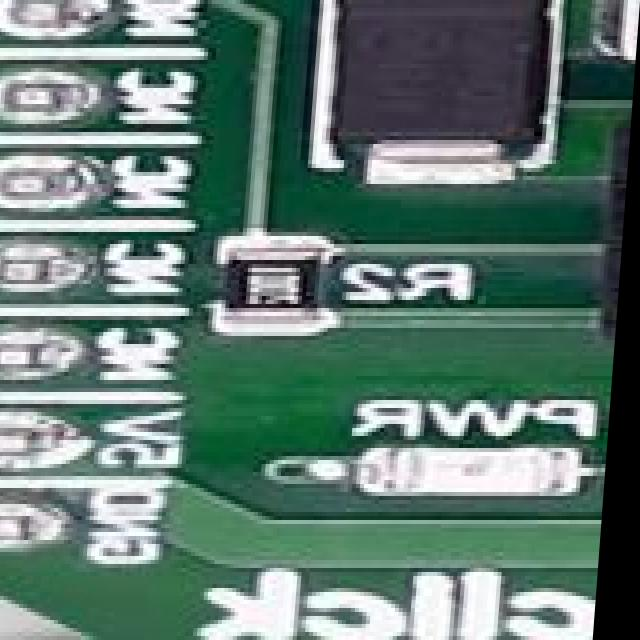IC: (615, 108, 634, 352)
LED: (361, 456, 593, 496)
capacitor: (604, 0, 640, 72)
diode: (315, 0, 568, 160)
resistor: (197, 248, 354, 326)
